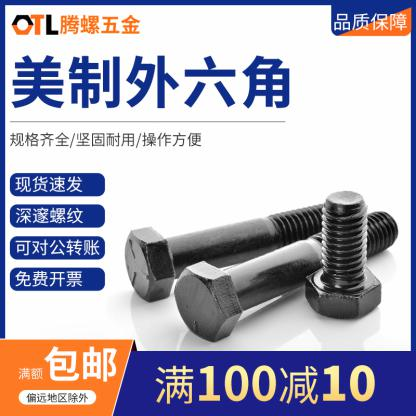FOD: (172, 210, 400, 343), (122, 190, 363, 305), (302, 189, 382, 322)
